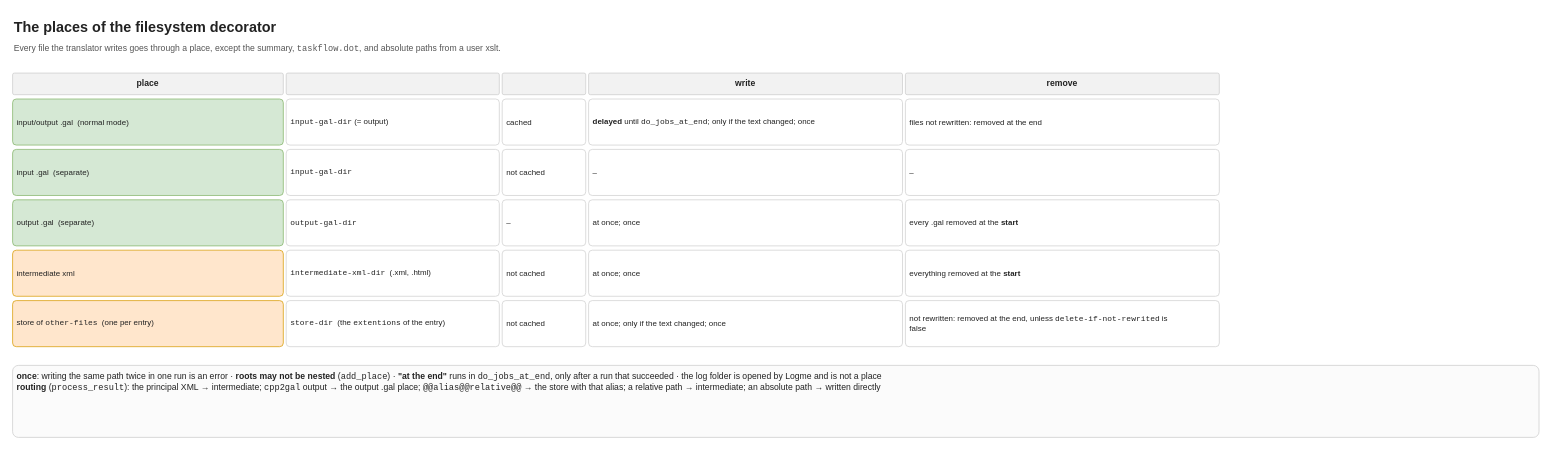
Some shapes in this 1552 by 450 pixel diagram are drawn without their labels. The shapes that lost their labels are listed below. From the top down, each one's centre as x and y in pixels, then its label:
At (x=392, y=83): "folder".
At (x=543, y=83): "read".
